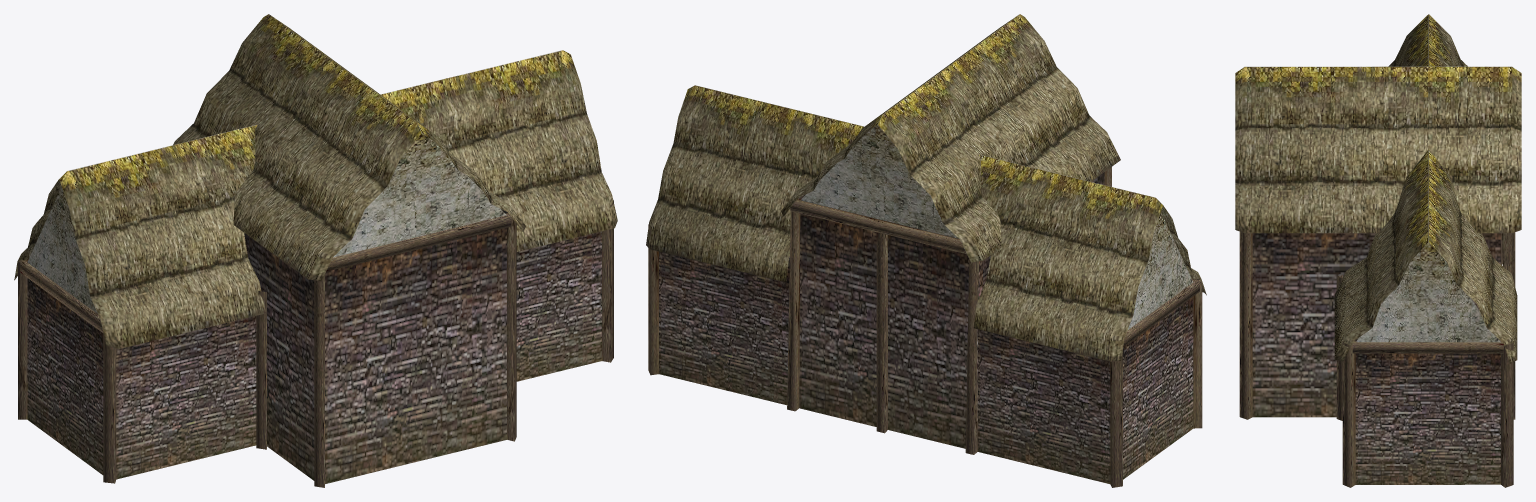
Rendered from celt_kennel_struct.dae.
3 renders of one model, left to right at view 1: azimuth 30°, elevation 25°; view 2: azimuth 150°, elevation 25°; view 3: azimuth 270°, elevation 25°, orthographic. The views are drawn at different scales.
Parts seen in each view (by area): view 1: Object31-Pivot; view 2: Object31-Pivot; view 3: Object31-Pivot.
Boxes of the visible parts, left/top/right/bottom form: Object31-Pivot: left=14, top=14, right=617, bottom=487; Object31-Pivot: left=646, top=14, right=1206, bottom=487; Object31-Pivot: left=1235, top=14, right=1521, bottom=487.
Size of the model in its own units: 16.41 by 8.79 by 10.44.
